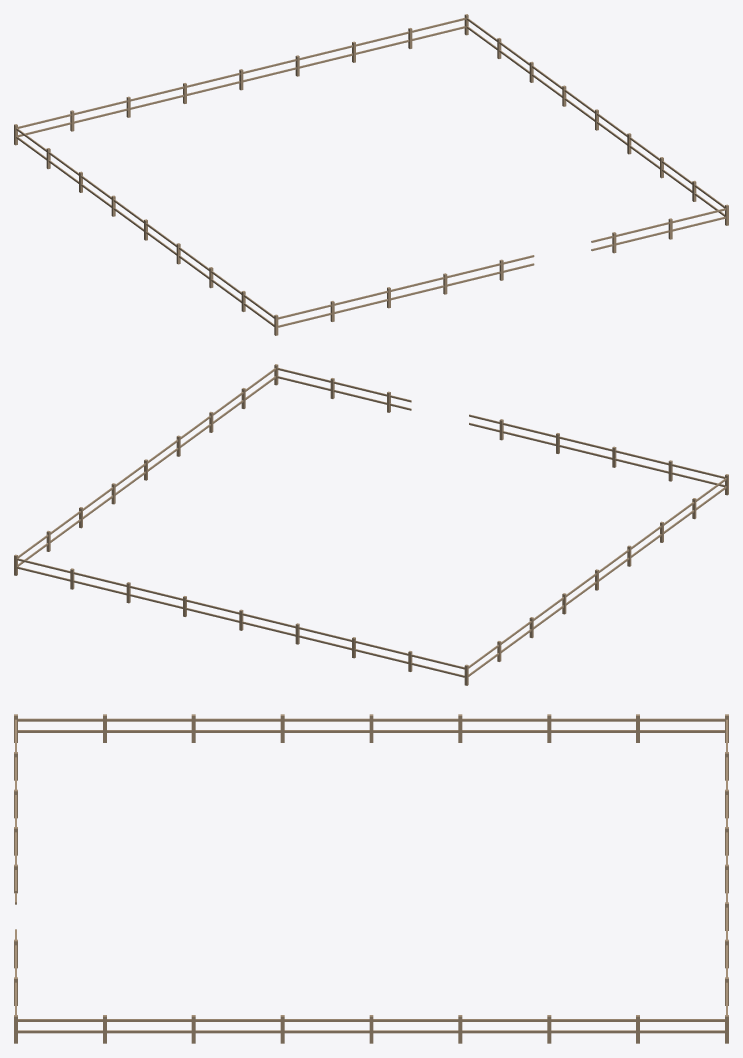
Rendered from field_fence.gltf.
3 views of the same model, one above another, from view 1: azimuth 30°, elevation 25°; view 2: azimuth 150°, elevation 25°; view 3: azimuth 270°, elevation 25° (orthographic). The views are drawn at different scales.
Visible parts, largest first — view 1: field_fence; view 2: field_fence; view 3: field_fence.
Boxes of the visible parts, x1=… form: field_fence: x1=14, y1=14, x2=728, y2=335; field_fence: x1=14, y1=364, x2=728, y2=685; field_fence: x1=14, y1=714, x2=728, y2=1043.
Size of the model in its own units: 25.14 by 1.05 by 25.14.
